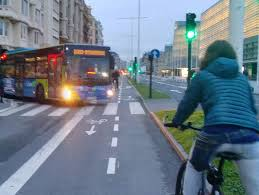Persona: (189, 39, 257, 195)
Poste: (230, 1, 245, 75), (185, 39, 194, 83)
Semaforo: (183, 12, 197, 39)
Vehiculo: (1, 48, 111, 103)
